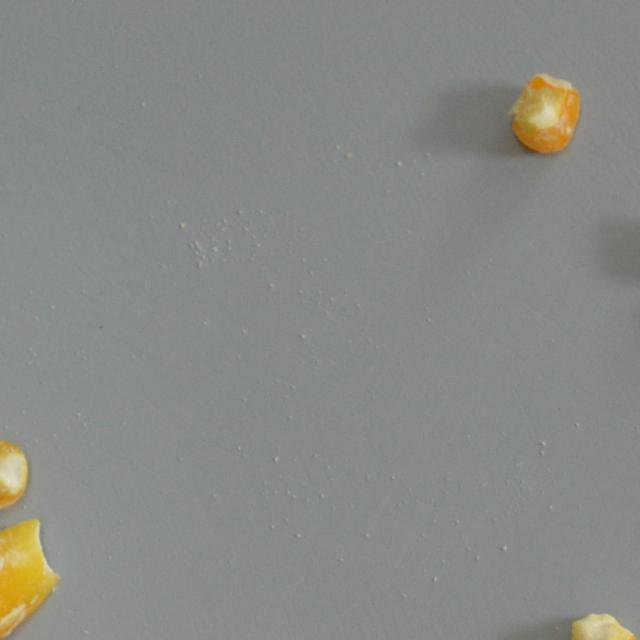dañado: (0, 515, 64, 640), (502, 68, 584, 158), (0, 437, 32, 513), (565, 608, 640, 640)
